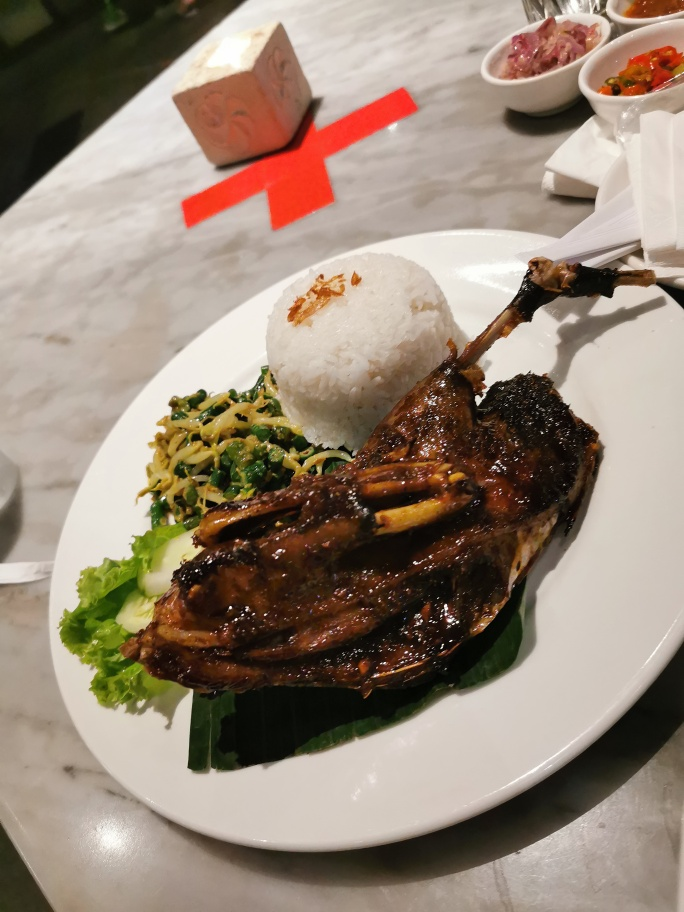bebek bakar: (119, 261, 647, 700)
nasi putih: (249, 250, 460, 447)
